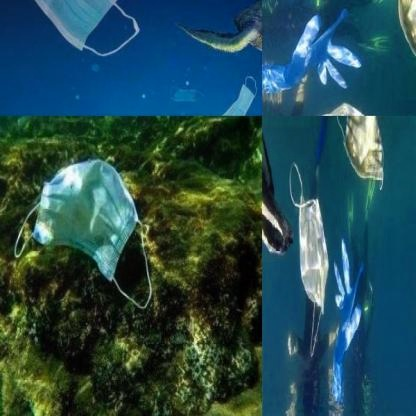Mask: (12, 157, 154, 309), (0, 0, 146, 77), (288, 160, 328, 360), (334, 117, 384, 194), (388, 0, 415, 83), (213, 71, 262, 115), (163, 70, 207, 115)
glove: (262, 4, 360, 94), (332, 240, 364, 404)
